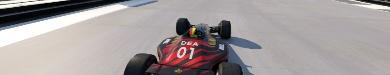Car: (122, 17, 244, 74)
